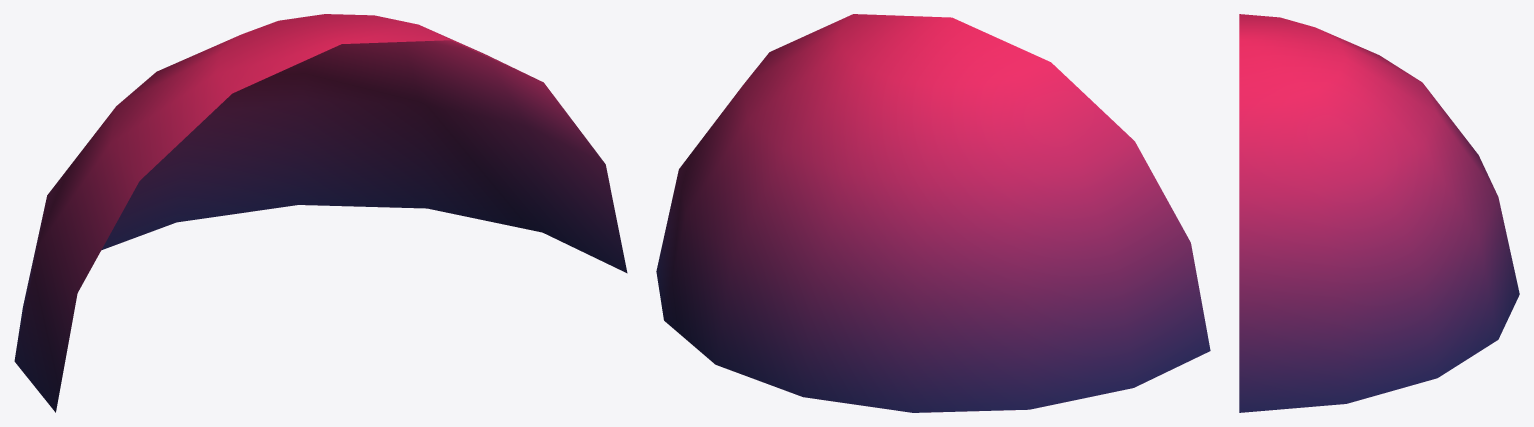
Rendered from SkySphere.FBX.
3 renders of one model, left to right at view 1: azimuth 30°, elevation 25°; view 2: azimuth 150°, elevation 25°; view 3: azimuth 270°, elevation 25°, orthographic. The views are drawn at different scales.
Parts seen in each view (by area): view 1: SkySphere; view 2: SkySphere; view 3: SkySphere.
Part boxes in pixels (box(x1,y1,x2,y2)): SkySphere: box(14, 14, 627, 412); SkySphere: box(656, 14, 1210, 412); SkySphere: box(1239, 14, 1519, 412).
Size of the model in its own units: 100000 by 50000 by 50000.
Materials: 1 (1 with a texture image).
